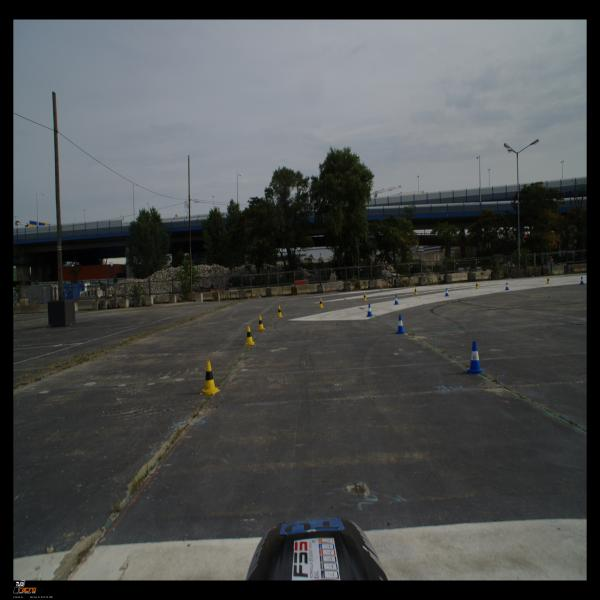blue_cone: (465, 341, 486, 374), (394, 315, 406, 334), (366, 304, 373, 317), (394, 294, 399, 304), (580, 276, 584, 284), (505, 282, 509, 290), (445, 288, 449, 296)
yellow_cone: (200, 360, 220, 394), (244, 326, 255, 346), (256, 315, 266, 331), (276, 306, 283, 318), (318, 298, 324, 308), (363, 293, 367, 301), (414, 287, 418, 295), (546, 276, 550, 284), (475, 282, 479, 289)
